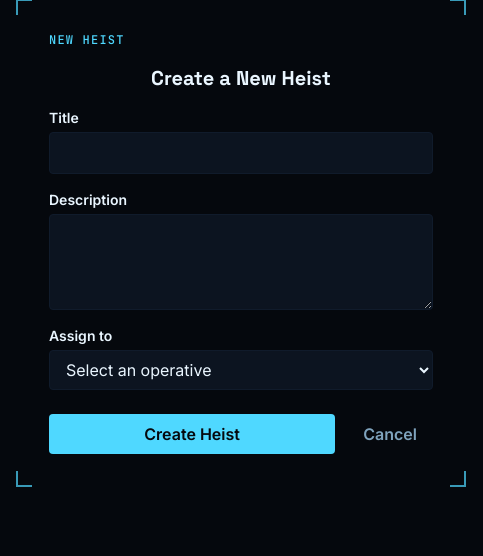
Test: HeistForm › shows an error and does not redirect when the write fails
Type "Steal the stapler" into the field labelled "Title".
click(241, 153); type("Steal the stapler")  # box [49, 132, 433, 174]
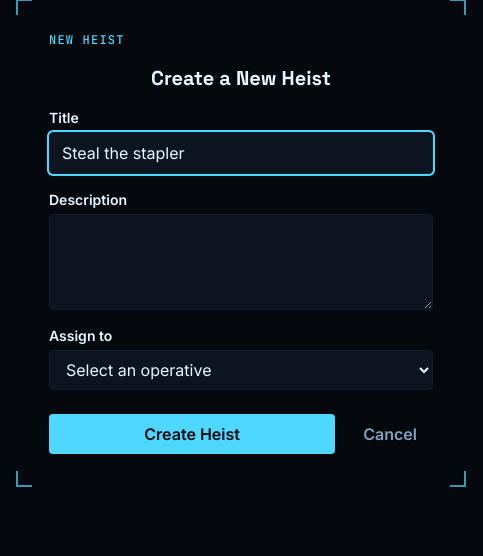
Type "Description." into the text box labelled "Description".
click(241, 262); type("Description.")  # box [49, 214, 433, 310]
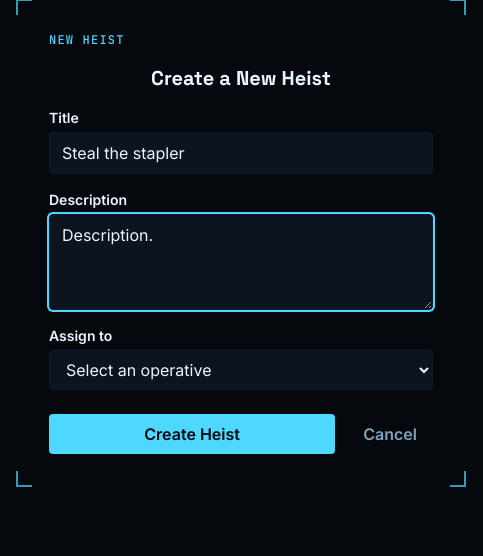
Select "Falcon" in the dropdown labelled "Assign to" at (241, 370), box [49, 350, 433, 390]
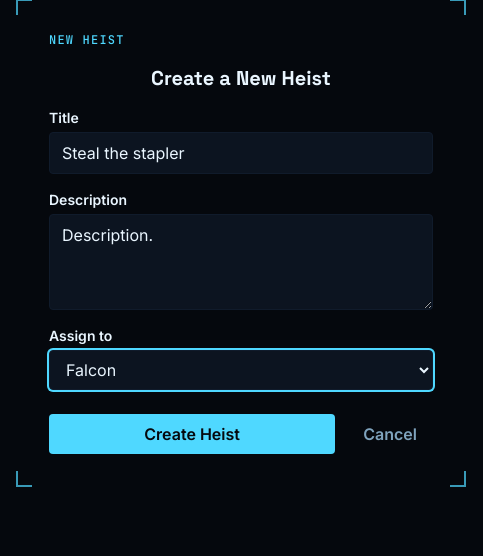
Click the button "Create Heist".
click(192, 434)  # box [49, 414, 335, 454]
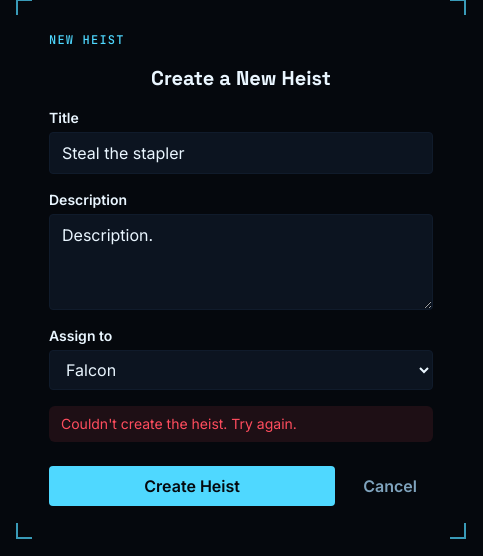
Now the text "Couldn't create the heist. Try again." is shown, box [49, 406, 433, 442]
